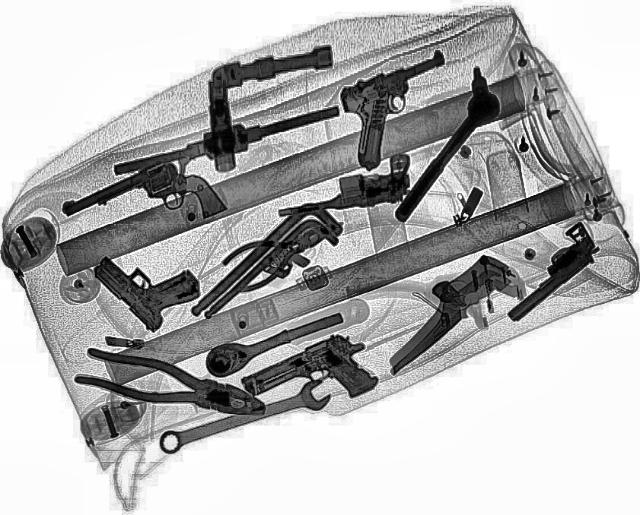Gun: (313, 48, 492, 172), (54, 151, 230, 263), (235, 328, 392, 430), (481, 221, 615, 324), (82, 233, 216, 333), (266, 153, 420, 218)
Pliers: (70, 343, 274, 429), (208, 204, 356, 296)
Wrench: (150, 377, 338, 457)
